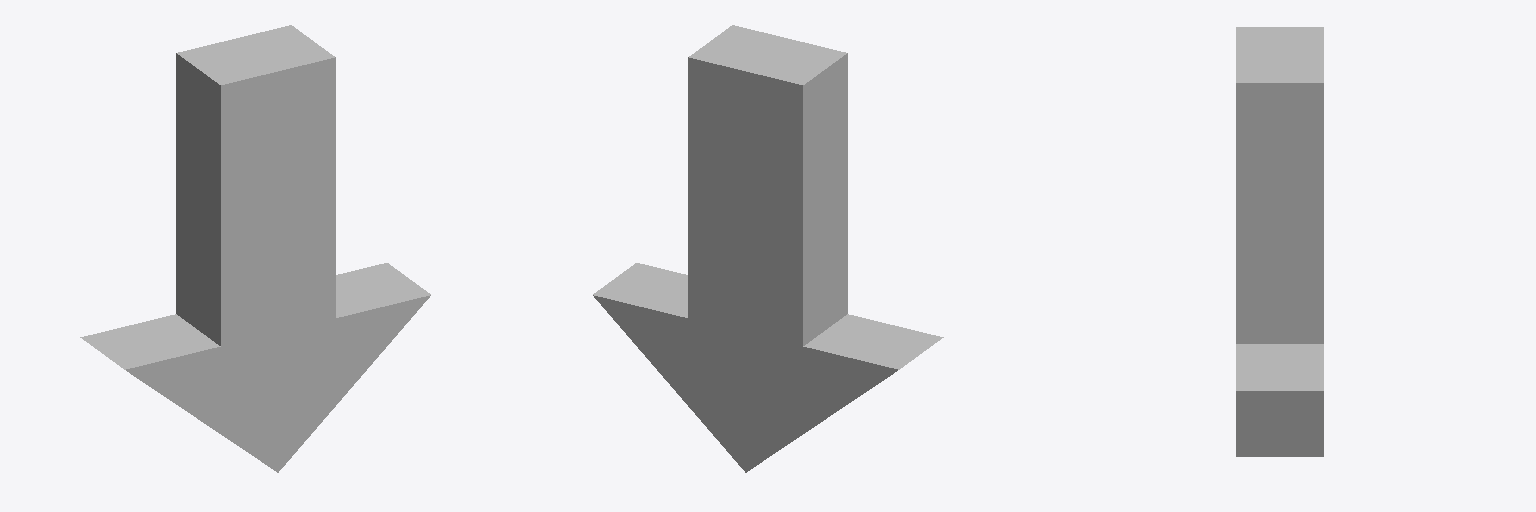
The model's file is tinker(6).obj.
The picture shows the model from 3 angles: view 1: azimuth 30°, elevation 25°; view 2: azimuth 150°, elevation 25°; view 3: azimuth 270°, elevation 25°; orthographic projection.
Visible parts, largest first — view 1: obj_0; view 2: obj_0; view 3: obj_0.
Boxes of the visible parts, <box> form: obj_0: <box>80,25,430,472</box>; obj_0: <box>593,25,943,472</box>; obj_0: <box>1236,27,1323,456</box>.
Size of the model in its own units: 16 by 20 by 4.